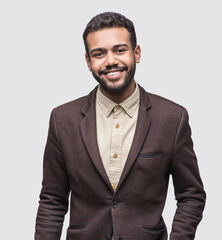young: (80, 16, 140, 87)
